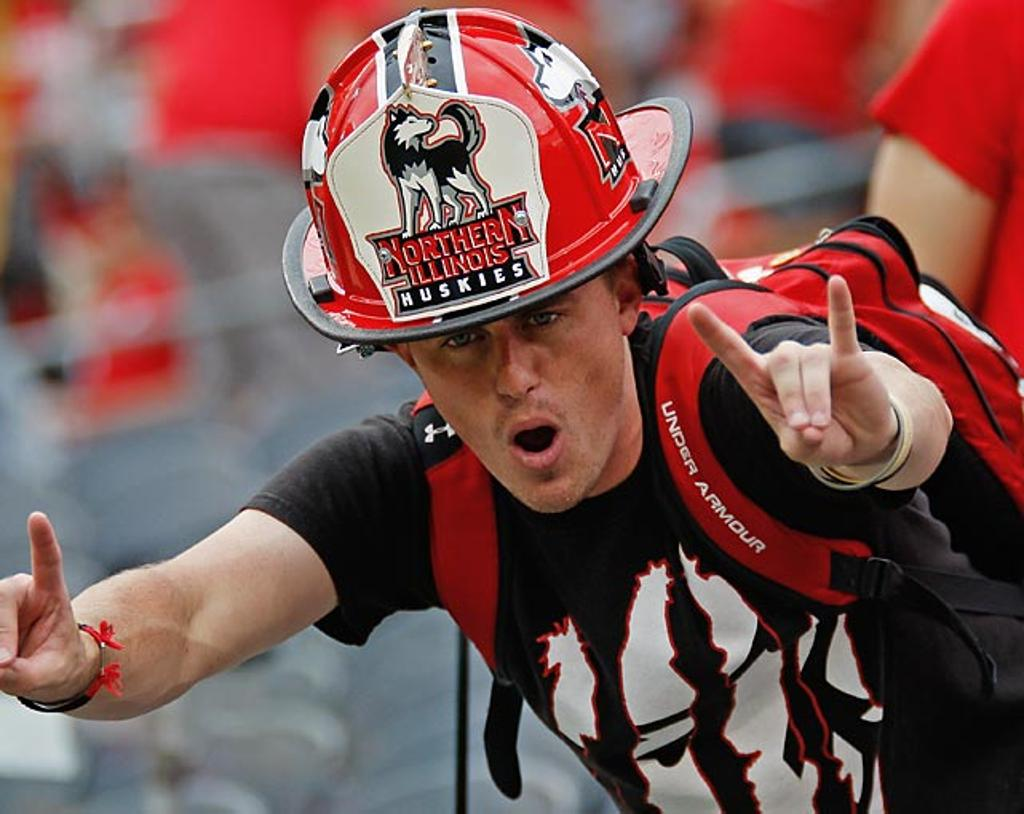face: (384, 234, 612, 516)
